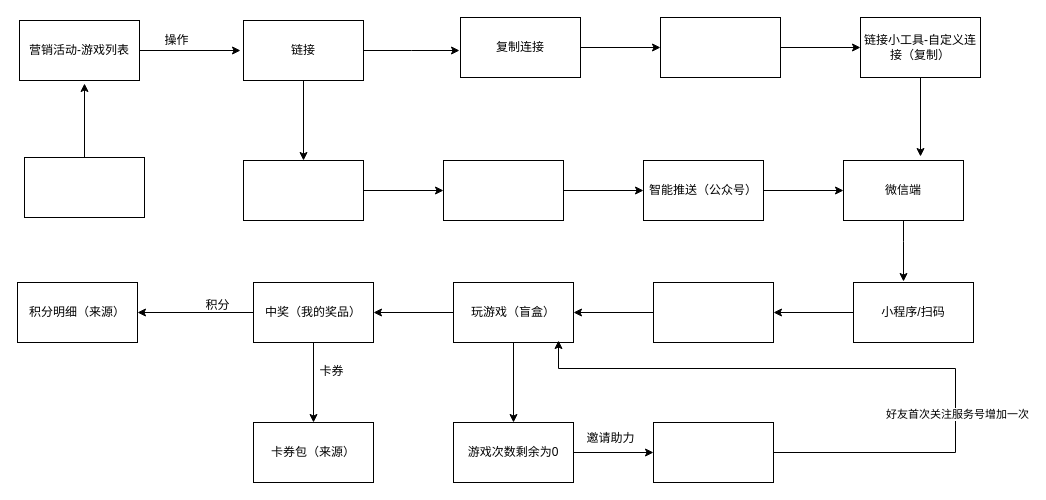
The diagram is 1046 pixels wide and 500 high, and some of its shapes have lost their labels. Here are the shapes that lost their labels. From the top down, the centre of each, then its label:
At (x=720, y=47): "配置-小程序管理/装修".
At (x=84, y=187): "GIC商户后台".
At (x=303, y=190): "小程序二维码下载".
At (x=503, y=190): "营销活动-营销工具".
At (x=713, y=312): "进入游戏".
At (x=713, y=452): "分享到微信/朋友圈".
